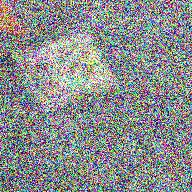러키펜정: (89, 52, 100, 60)
씨엠지세파클러캡슐: (73, 65, 88, 80)
에르도캡슐: (66, 77, 87, 90)
휴티렌정: (82, 59, 98, 68)
